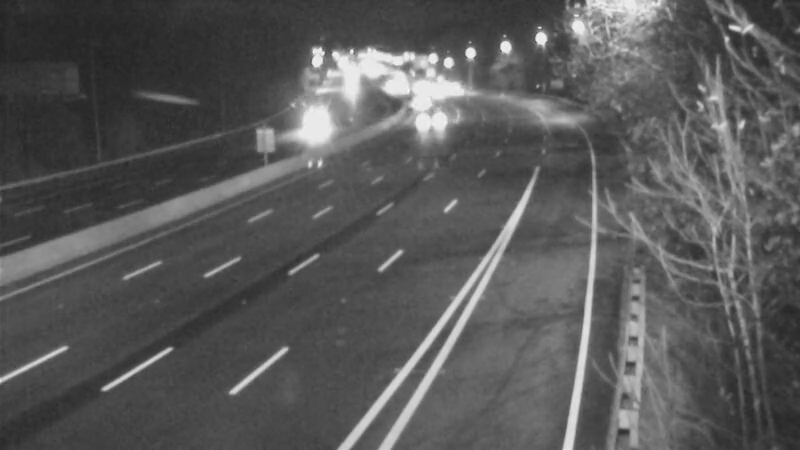vehicle: (397, 77, 447, 127), (403, 97, 453, 147), (291, 100, 341, 150)
